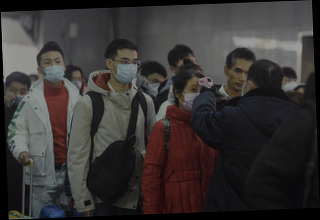with_mask: (180, 83, 206, 115), (112, 56, 139, 85), (39, 56, 65, 84), (7, 84, 28, 107), (146, 76, 167, 98), (281, 77, 299, 95), (71, 75, 83, 90)
without_mask: (228, 65, 250, 92)
